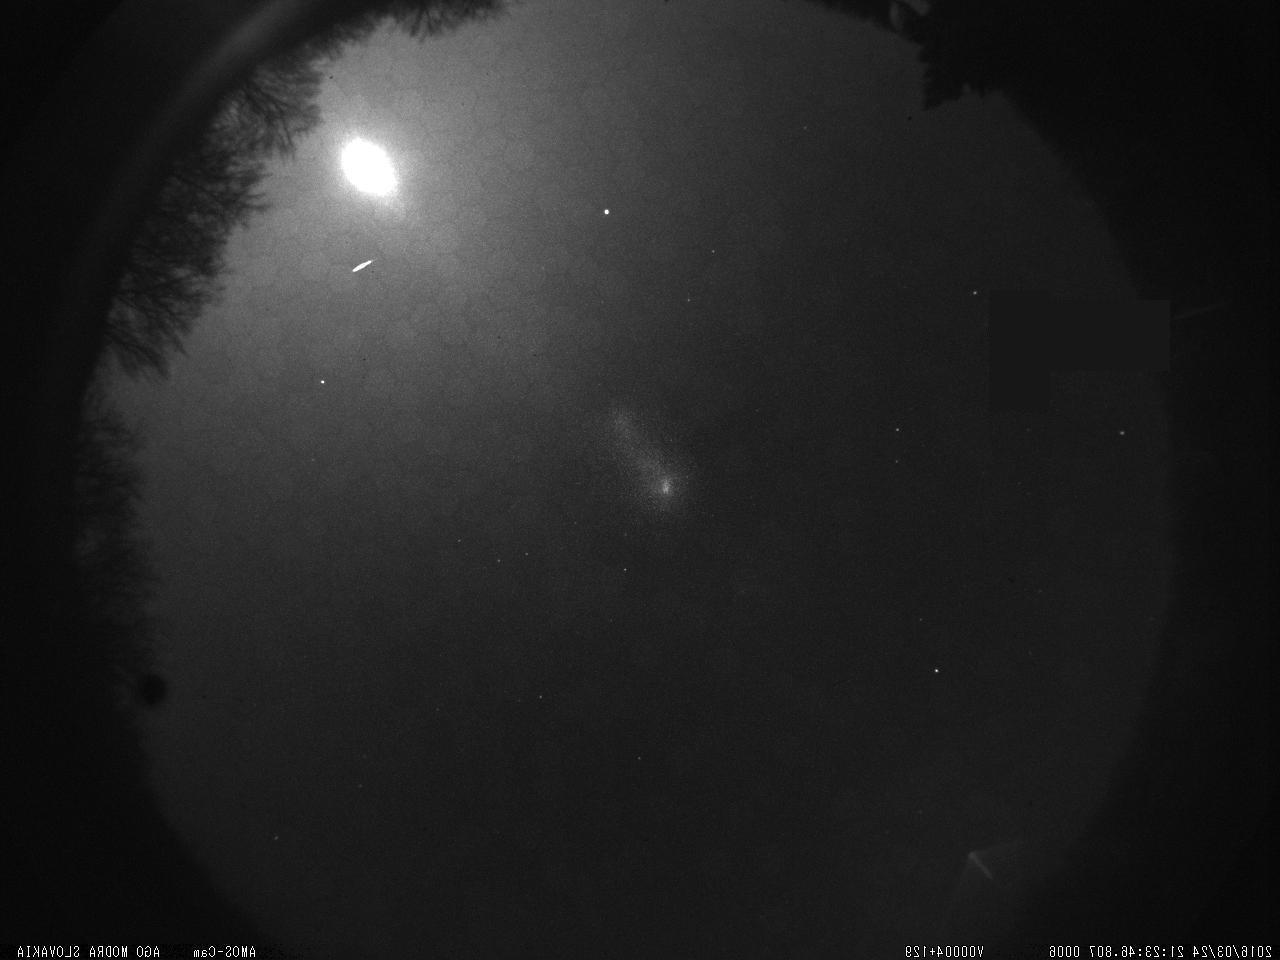meteor: (340, 254, 378, 277)
